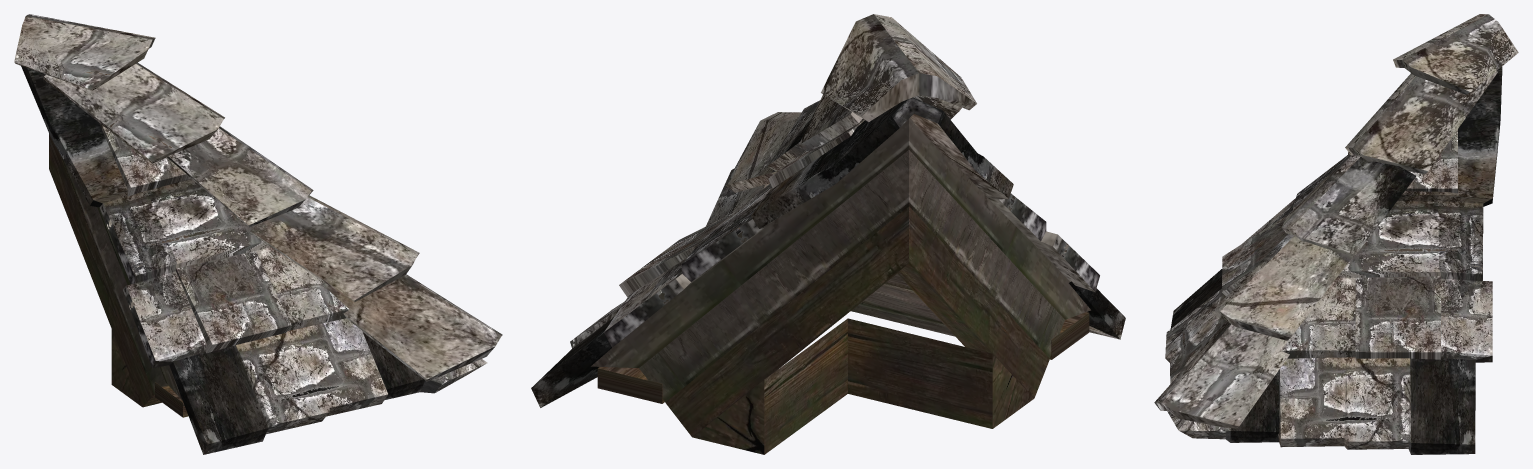
The picture shows the model from 3 angles, left to right: view 1: azimuth 30°, elevation 25°; view 2: azimuth 150°, elevation 25°; view 3: azimuth 270°, elevation 25°; orthographic projection. The views are drawn at different scales.
Visible parts, largest first — view 1: SM_T3_Roof_Small_Hip_LOD0; view 2: SM_T3_Roof_Small_Hip_LOD0; view 3: SM_T3_Roof_Small_Hip_LOD0.
Part boxes in pixels (<box>): SM_T3_Roof_Small_Hip_LOD0: <box>14,14,502,454</box>; SM_T3_Roof_Small_Hip_LOD0: <box>531,14,1125,454</box>; SM_T3_Roof_Small_Hip_LOD0: <box>1154,14,1518,454</box>.
Bounding box in the file's own units: 1.56 × 1.45 × 1.56.
Materials: 3 (3 with a texture image).
